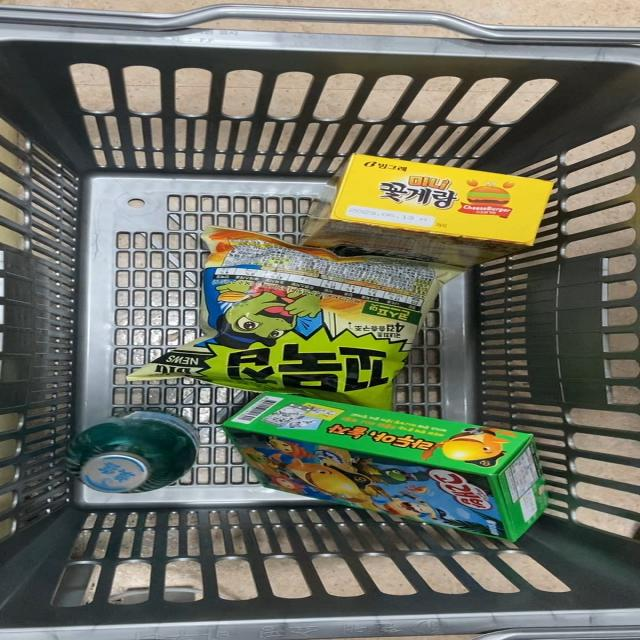ggobukchip: (142, 235, 466, 408)
goraebob: (223, 396, 560, 543)
jinro: (72, 410, 209, 500)
minicrab: (314, 161, 548, 270)
